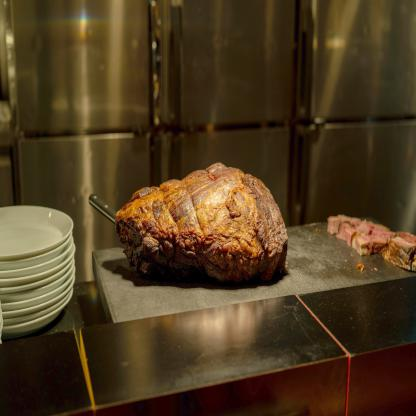Carne: (118, 161, 288, 266)
